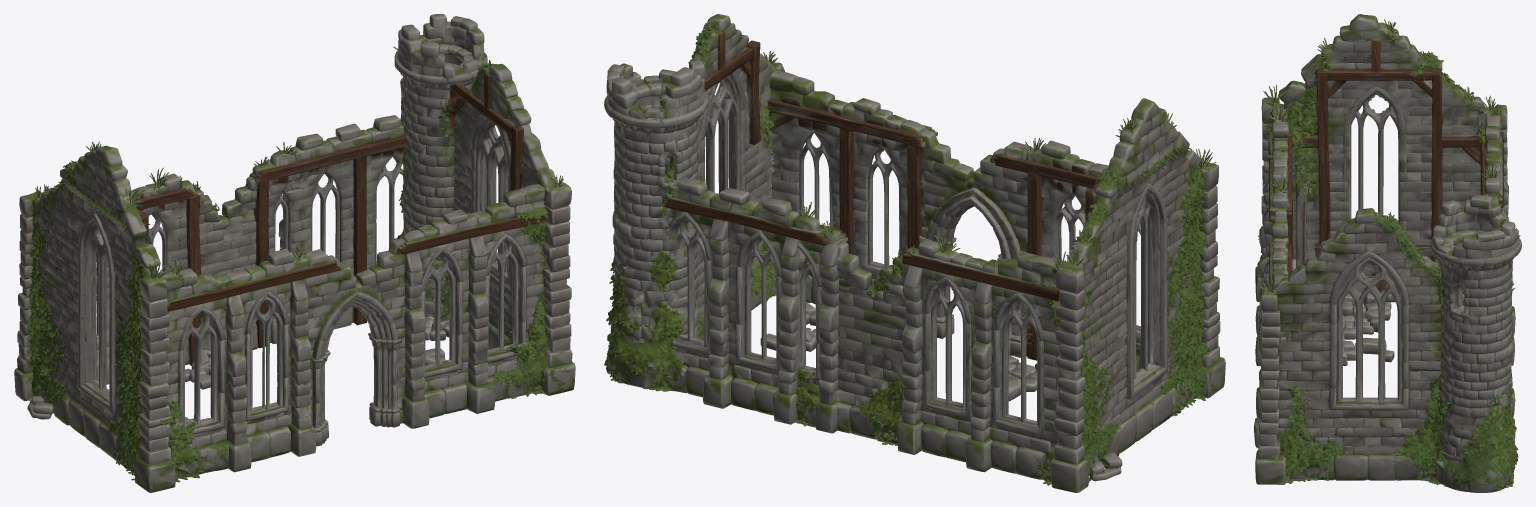
File: OakHillRuins_300k.glb
3 renders of one model, left to right at view 1: azimuth 30°, elevation 25°; view 2: azimuth 150°, elevation 25°; view 3: azimuth 270°, elevation 25°, orthographic. The views are drawn at different scales.
Visible parts, largest first — view 1: Mesh_0; view 2: Mesh_0; view 3: Mesh_0.
Part boxes in pixels (x1=…): Mesh_0: x1=14, y1=14, x2=575, y2=492; Mesh_0: x1=604, y1=14, x2=1225, y2=492; Mesh_0: x1=1254, y1=14, x2=1521, y2=492.
Bounding box in the file's own units: 1.89 × 1.19 × 1.02.
1 material, 1 textured.
